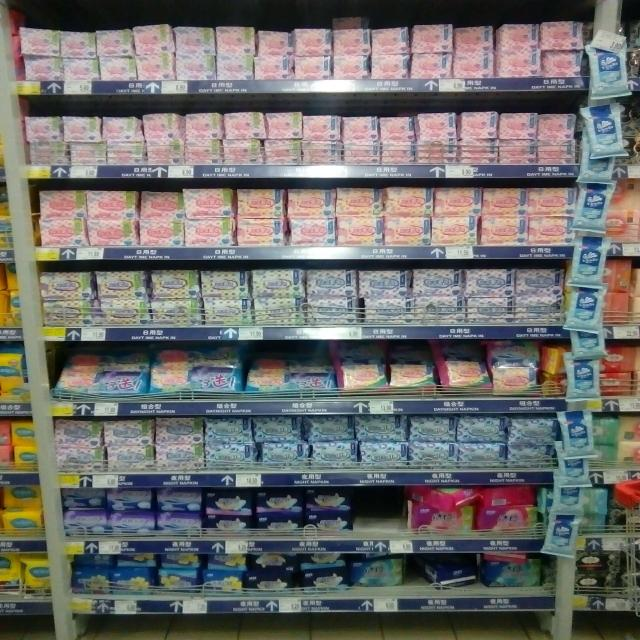void: (354, 489, 404, 538)
